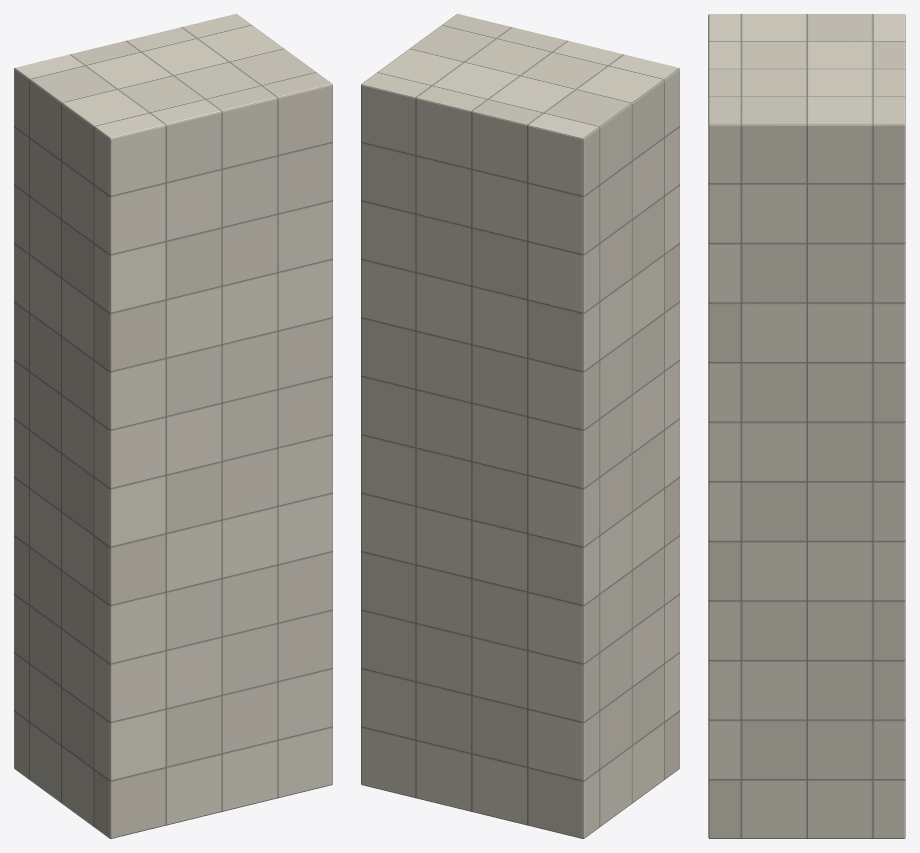
File: MOD_34_Pillar_Rectangular.glb
3 renders of one model, left to right at view 1: azimuth 30°, elevation 25°; view 2: azimuth 150°, elevation 25°; view 3: azimuth 270°, elevation 25°, orthographic.
Parts seen in each view (by area): view 1: MOD_34_Pillar_Rectangular_Export; view 2: MOD_34_Pillar_Rectangular_Export; view 3: MOD_34_Pillar_Rectangular_Export.
Boxes of the visible parts, <box> form: MOD_34_Pillar_Rectangular_Export: <box>14,14,332,838</box>; MOD_34_Pillar_Rectangular_Export: <box>361,14,679,838</box>; MOD_34_Pillar_Rectangular_Export: <box>708,14,905,838</box>.
Bounding box in the file's own units: 1 × 3 × 0.75.
Materials: 1 (1 with a texture image).
